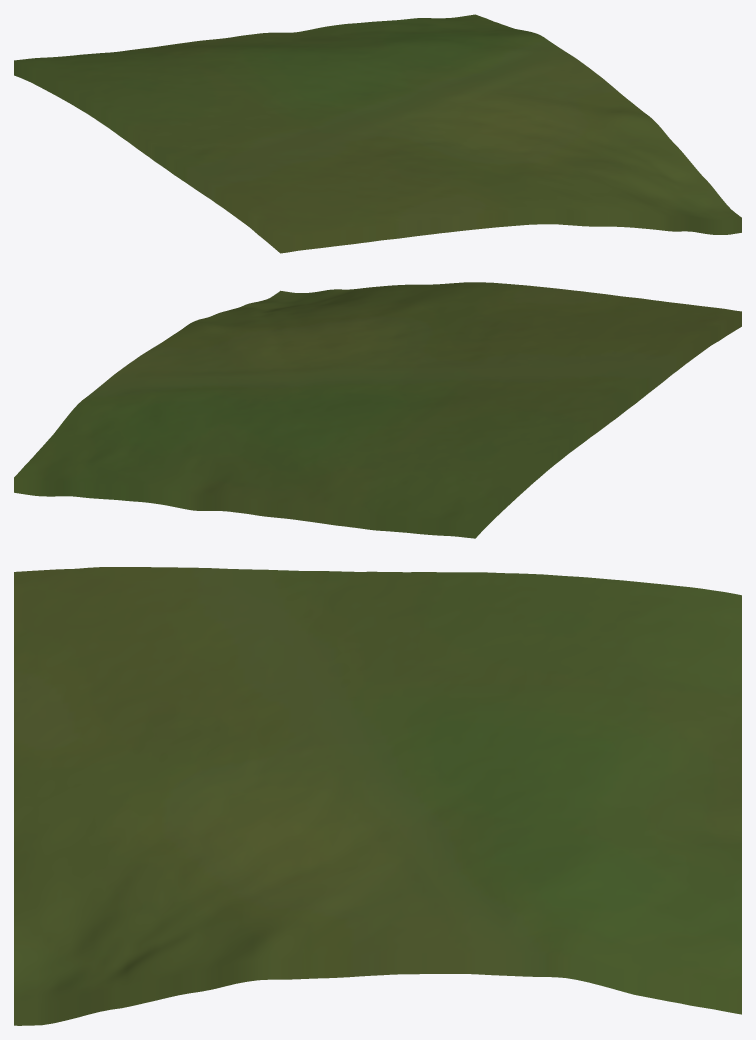
File: terrain_8_-10.glb
3 renders of one model, top to bottom at view 1: azimuth 30°, elevation 25°; view 2: azimuth 150°, elevation 25°; view 3: azimuth 270°, elevation 25°, orthographic. The views are drawn at different scales.
Visible parts, largest first — view 1: terrain_8_-10; view 2: terrain_8_-10; view 3: terrain_8_-10.
Part boxes in pixels (x1=…): terrain_8_-10: x1=14, y1=14, x2=741, y2=253; terrain_8_-10: x1=14, y1=282, x2=741, y2=538; terrain_8_-10: x1=14, y1=567, x2=741, y2=1025.
Bounding box in the file's own units: 256 × 58.62 × 256.
